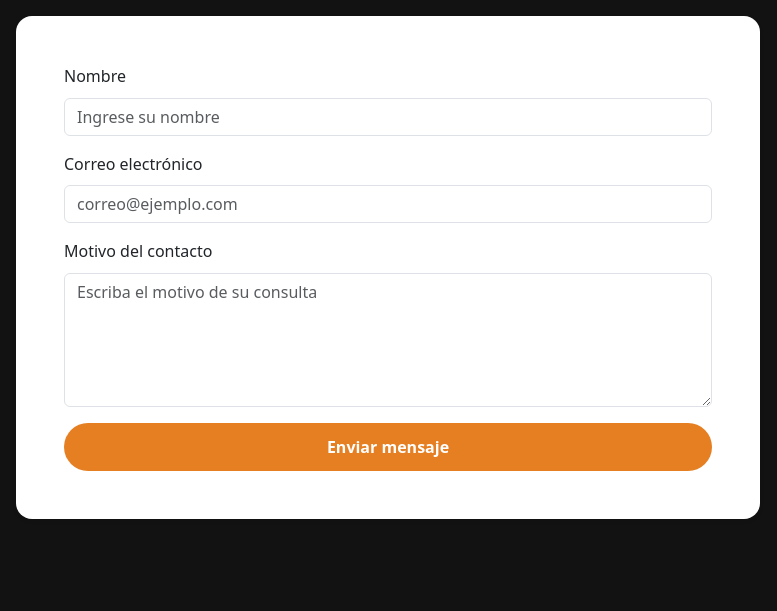
FormularioContacto › confirma el envío con información de contacto válida
Type "Ana Pérez" into the field labelled "Nombre" at x=388, y=117, box [64, 98, 712, 136]
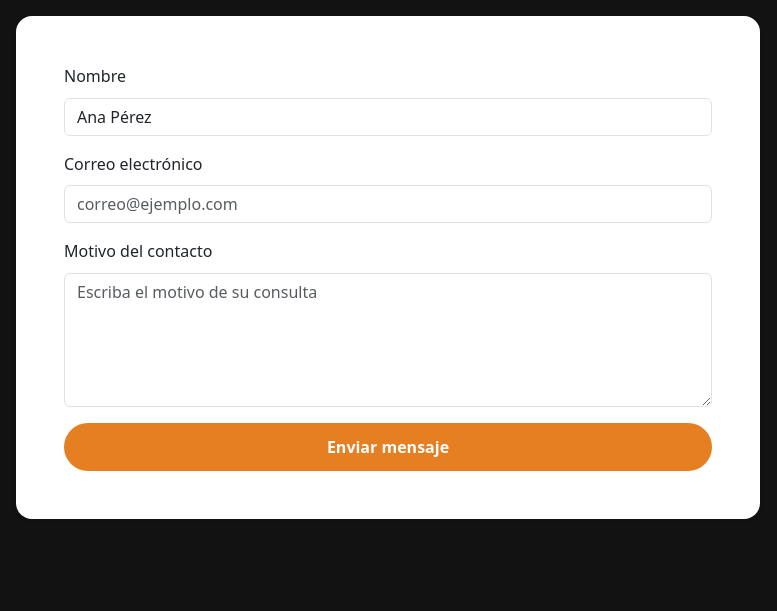
Type "ana@example.cl" into the field labelled "Correo electrónico" at x=388, y=204, box [64, 185, 712, 223]
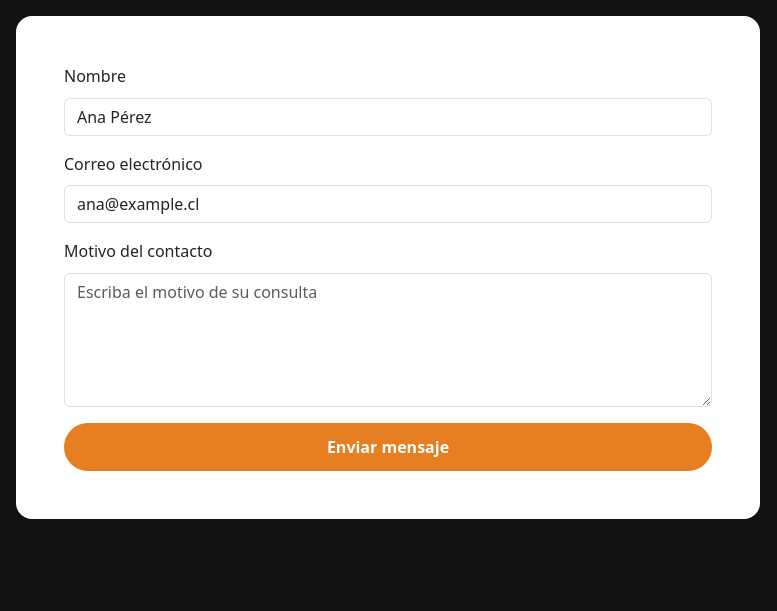
Type "Consulta por una guitarra." into the text box labelled "Motivo del contacto" at x=388, y=340, box [64, 273, 712, 407]
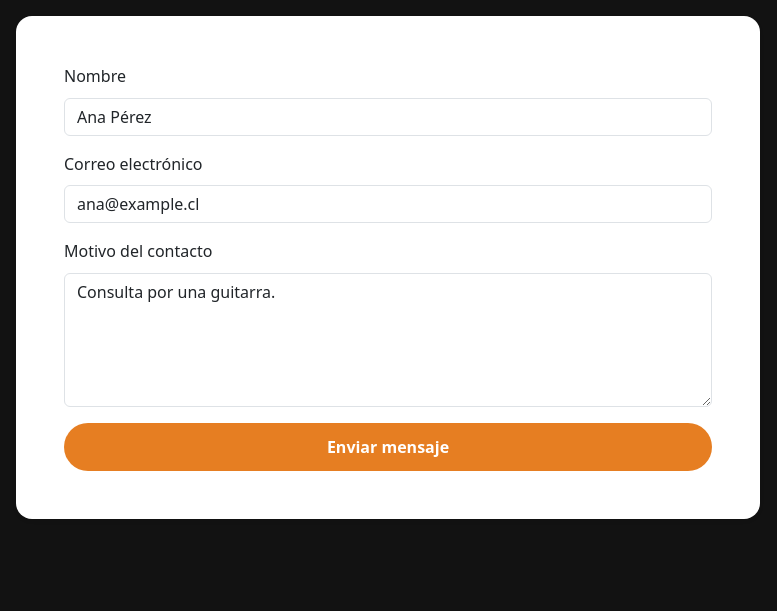
Click the button "Enviar mensaje" at x=388, y=447, box [64, 423, 712, 471]
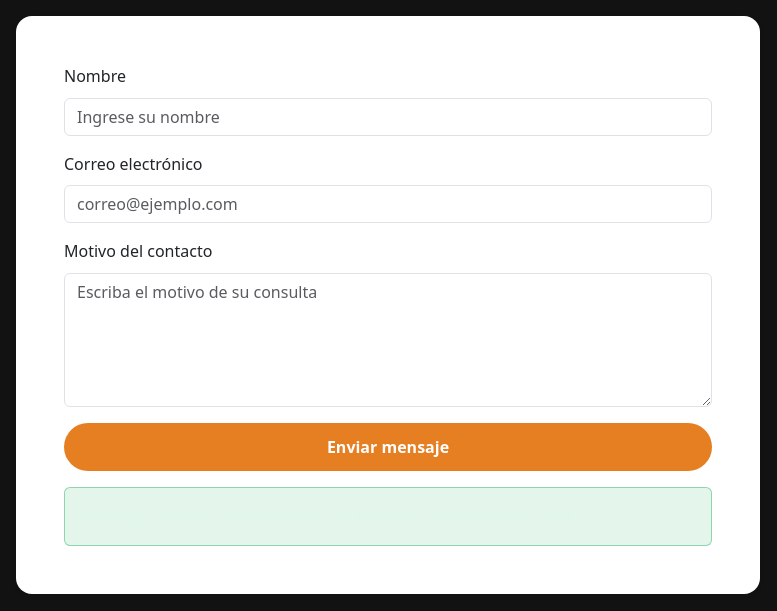
Now the text "Mensaje enviado correctamente. Pronto nos contactaremos contigo." is shown, box [64, 487, 712, 546]
